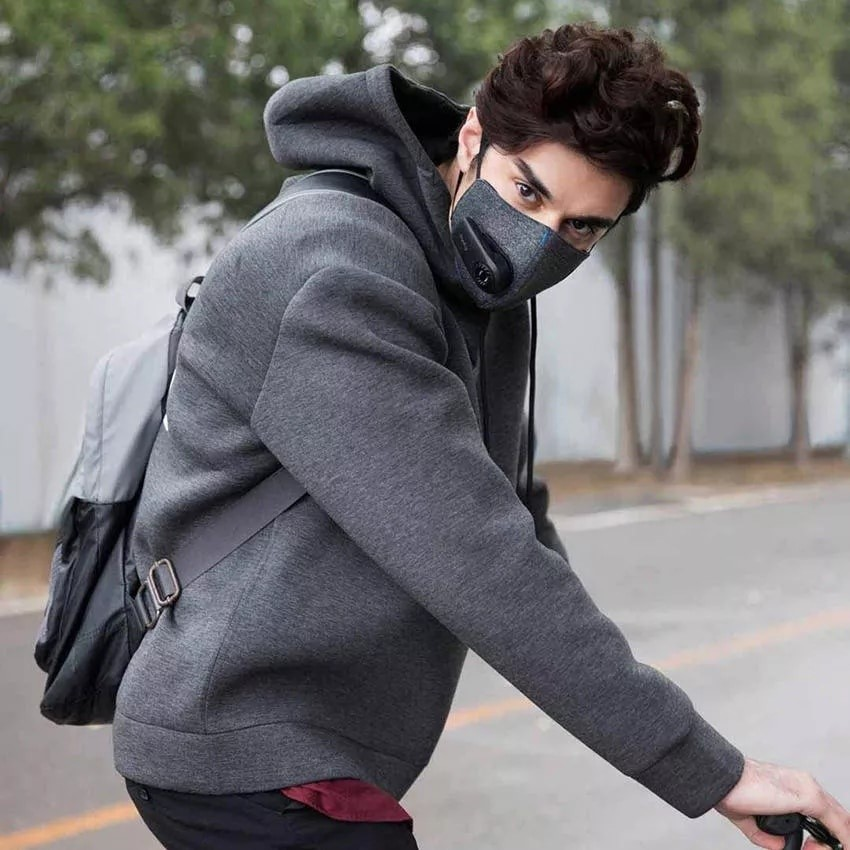face_with_mask: (435, 82, 642, 323)
